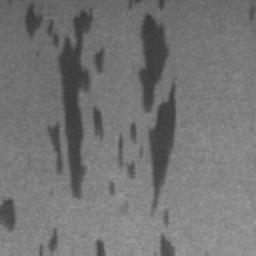Red iron sheet: (24, 4, 105, 198), (118, 0, 175, 224), (38, 228, 58, 256), (0, 198, 15, 233), (160, 234, 175, 256), (95, 239, 106, 256), (127, 0, 142, 10), (248, 6, 256, 19), (109, 180, 115, 195)
